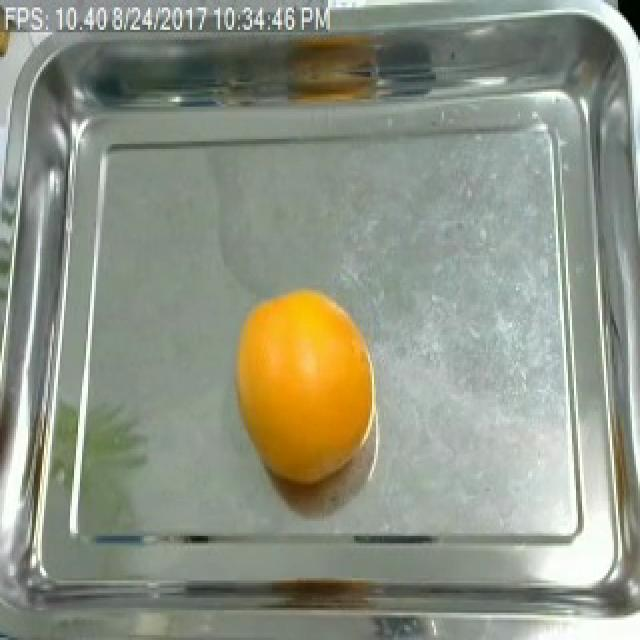Fruit: (226, 280, 380, 487)
